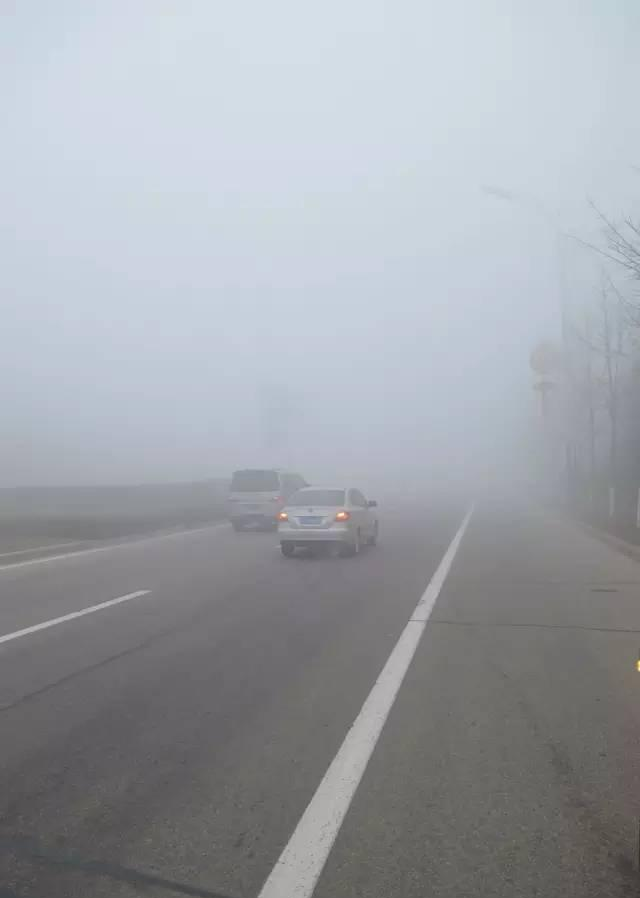car: (277, 485, 382, 557), (224, 466, 313, 534)
